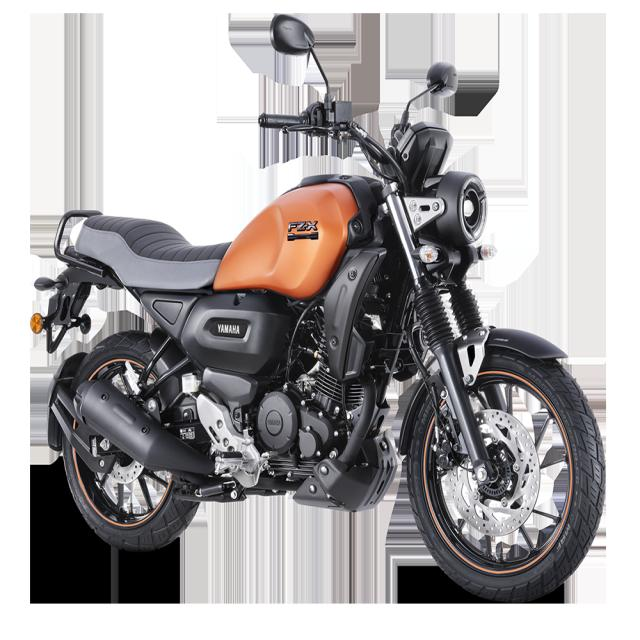Bike: (28, 11, 616, 609)
